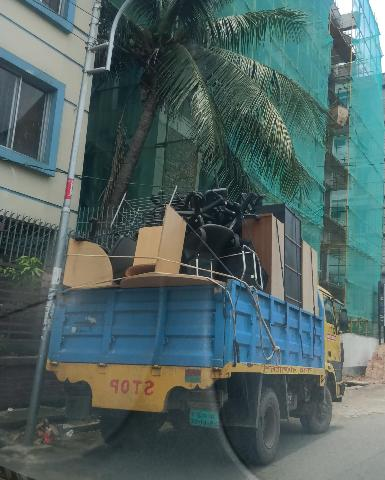truck: (16, 216, 359, 468)
